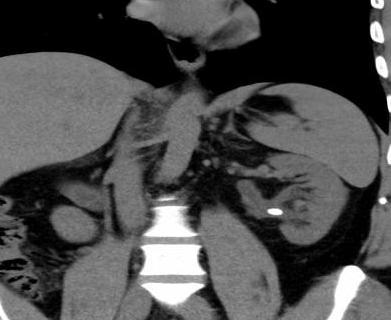Tas_Var: (266, 206, 283, 216)
